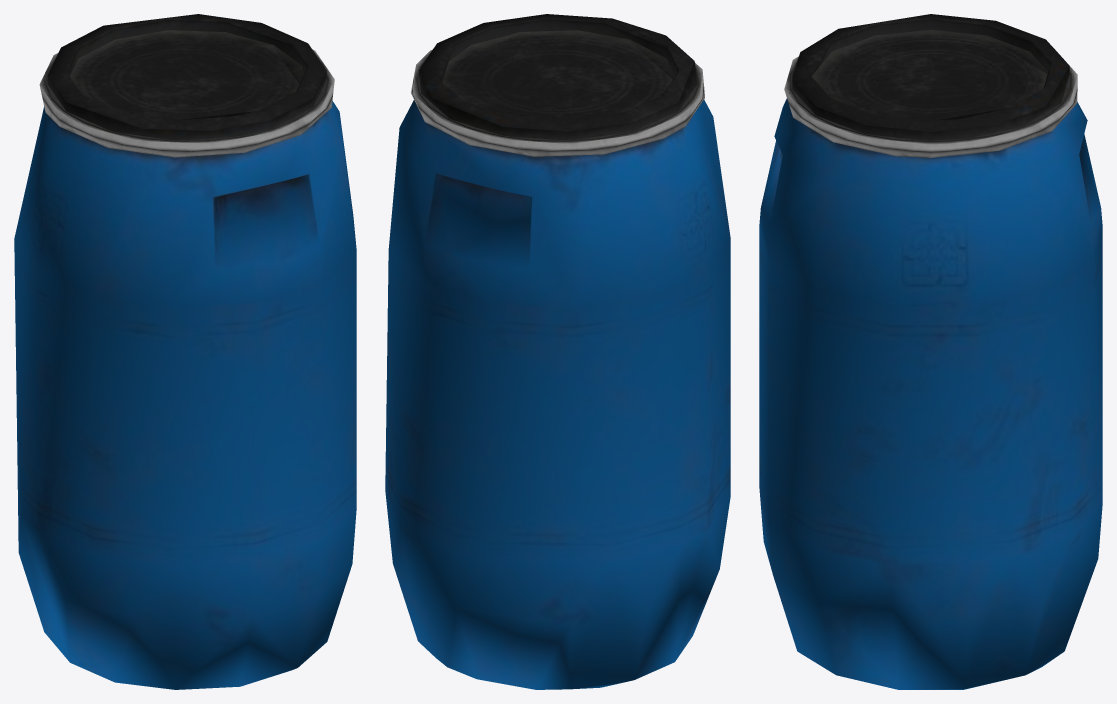
The model's file is fireBarrel.glb.
3 renders of one model, left to right at view 1: azimuth 30°, elevation 25°; view 2: azimuth 150°, elevation 25°; view 3: azimuth 270°, elevation 25°, orthographic.
Visible parts, largest first — view 1: body; view 2: body; view 3: body.
Part boxes in pixels (box(x1,y1,x2,y2)): body: box(14, 14, 356, 689); body: box(385, 14, 730, 689); body: box(759, 14, 1102, 689).
Size of the model in its own units: 0.6026 by 1.1 by 0.6058.
1 material, 1 textured.
